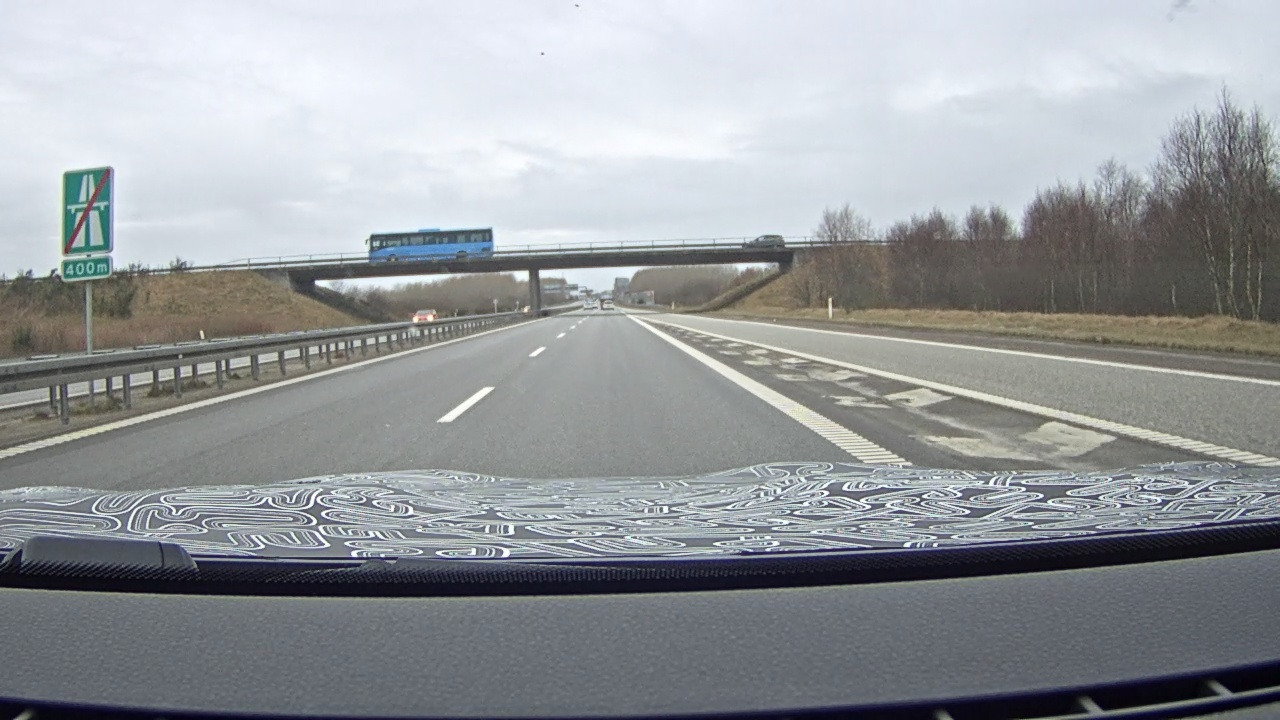Regular_End_Of_Motorway: (61, 166, 115, 255)
